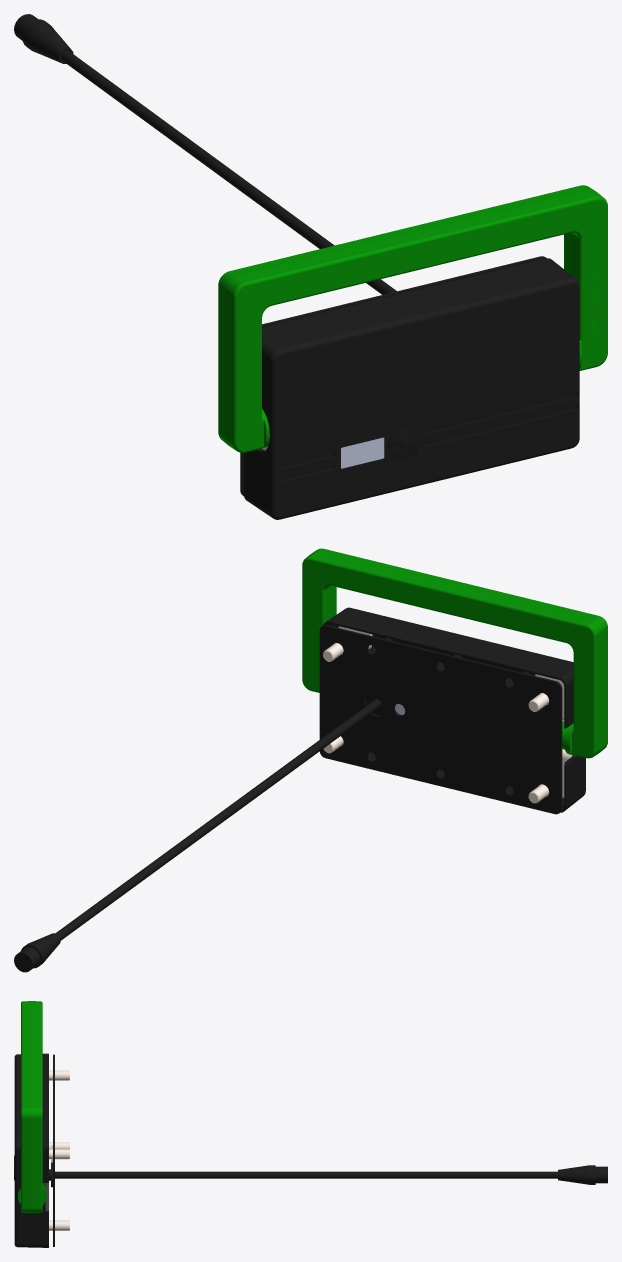
The model's file is example3.glb.
3 renders of one model, top to bottom at view 1: azimuth 30°, elevation 25°; view 2: azimuth 150°, elevation 25°; view 3: azimuth 270°, elevation 25°, orthographic. The views are drawn at different scales.
Visible parts, largest first — view 1: NAUO2, NAUO1, NAUO7, NAUO6, NAUO8; view 2: NAUO6, NAUO1, NAUO2, NAUO7, NAUO3; view 3: NAUO7, NAUO1, NAUO2, NAUO4, NAUO6, NAUO3.
Part boxes in pixels (box(x1,y1,x2,y2)): NAUO2: box(243, 258, 579, 519); NAUO1: box(218, 185, 607, 452); NAUO7: box(14, 14, 396, 294); NAUO6: box(240, 256, 546, 496); NAUO8: box(341, 437, 384, 468); NAUO6: box(319, 625, 562, 814); NAUO1: box(302, 548, 607, 758); NAUO2: box(323, 607, 585, 812); NAUO7: box(14, 692, 387, 972); NAUO3: box(528, 674, 572, 803); NAUO7: box(49, 1162, 607, 1187); NAUO1: box(18, 1001, 46, 1212); NAUO2: box(14, 1053, 48, 1247); NAUO4: box(49, 1149, 69, 1230); NAUO6: box(53, 1054, 54, 1246); NAUO3: box(49, 1070, 69, 1149).
Bounding box in the file's own units: 0.128 × 0.0791 × 0.2858.
